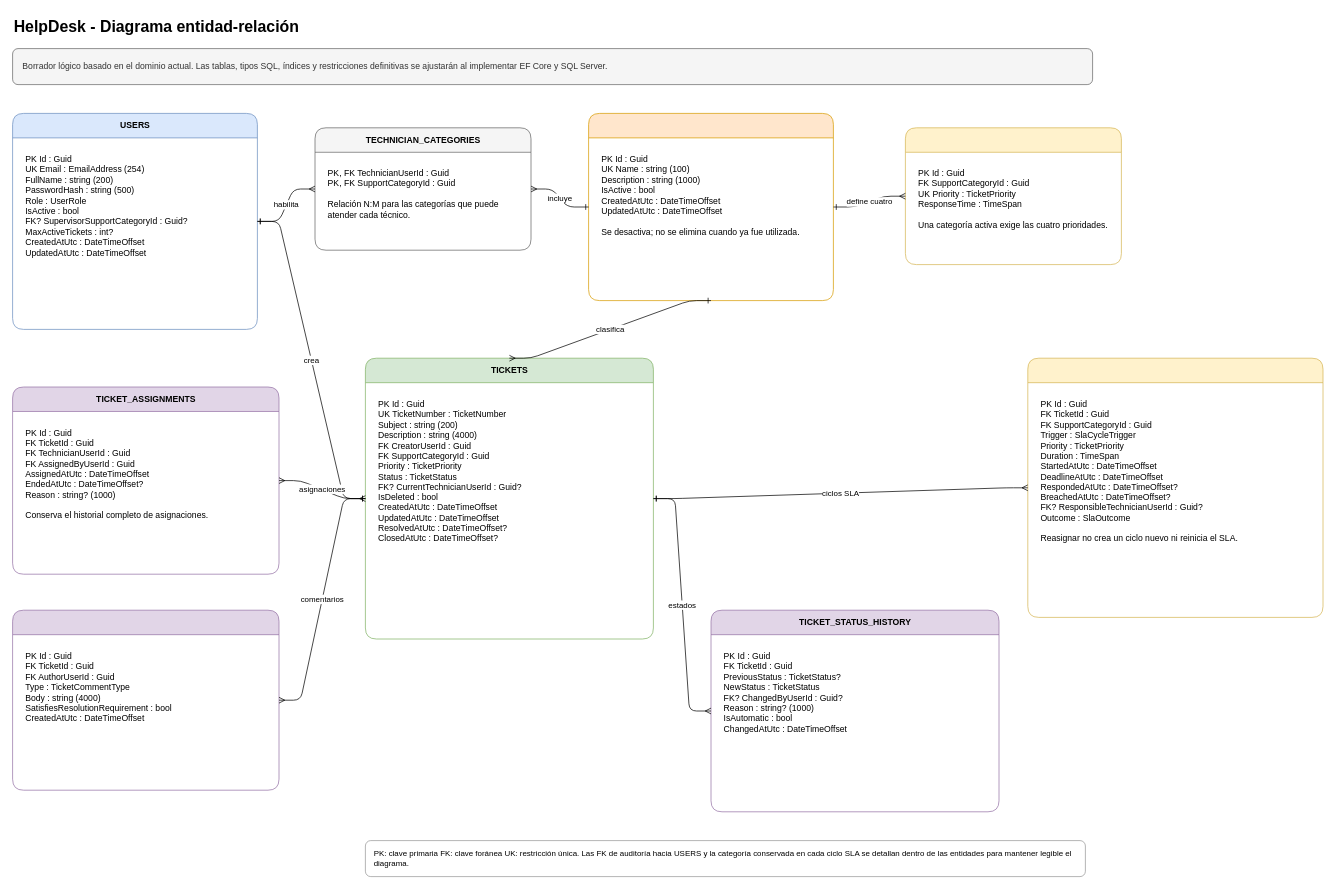
The diagram is 1336 pixels wide and 889 high, and some of its shapes have lost their labels. The box of each missing label's shape, as (x1, y1, x2, y2) in pixels:
SLA_POLICIES: (905, 127, 1121, 265)
SUPPORT_CATEGORIES: (588, 113, 833, 301)
TICKET_COMMENTS: (12, 609, 279, 790)
TICKET_SLA_CYCLES: (1027, 357, 1323, 617)
